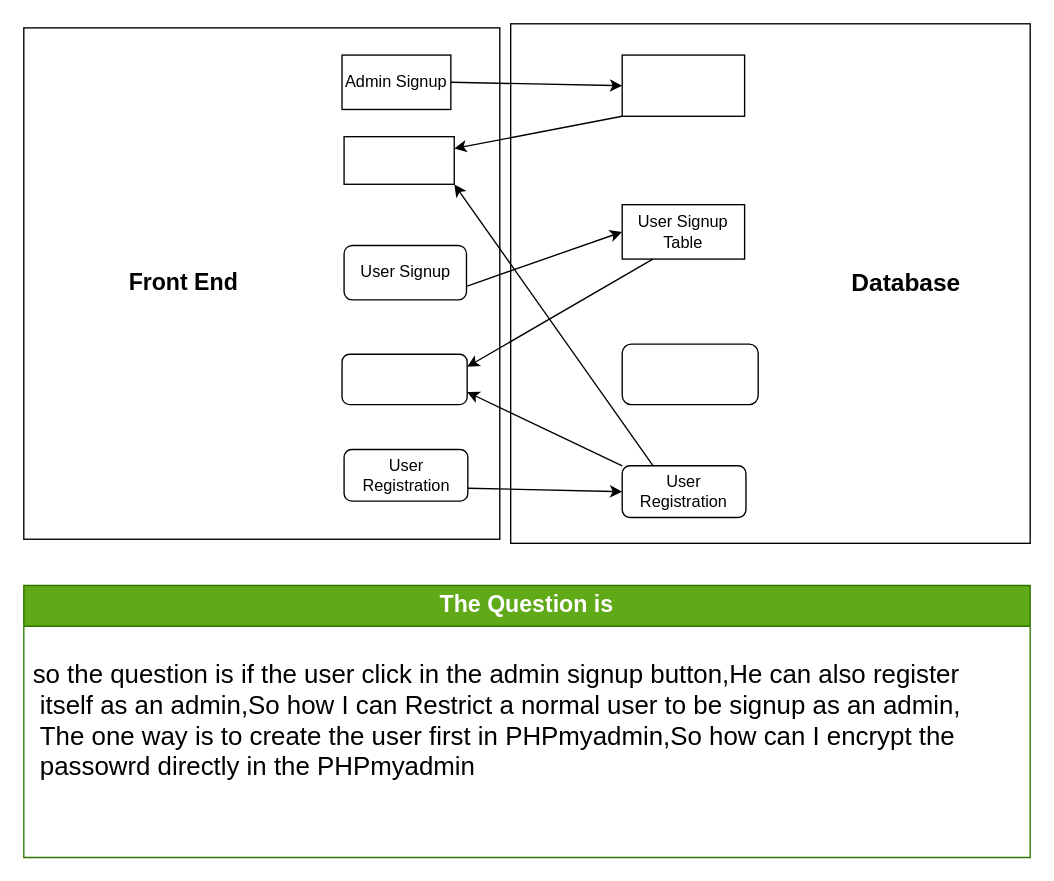
The diagram is 1054 pixels wide and 881 high, and some of its shapes have lost their labels. Each missing label, with the centre of its shape:
"Admin Login" goes at point 398,159.
"Admin Signup Table" goes at point 683,85.
"User Login" goes at point 404,379.
"User Registration Table" goes at point 689,374.
